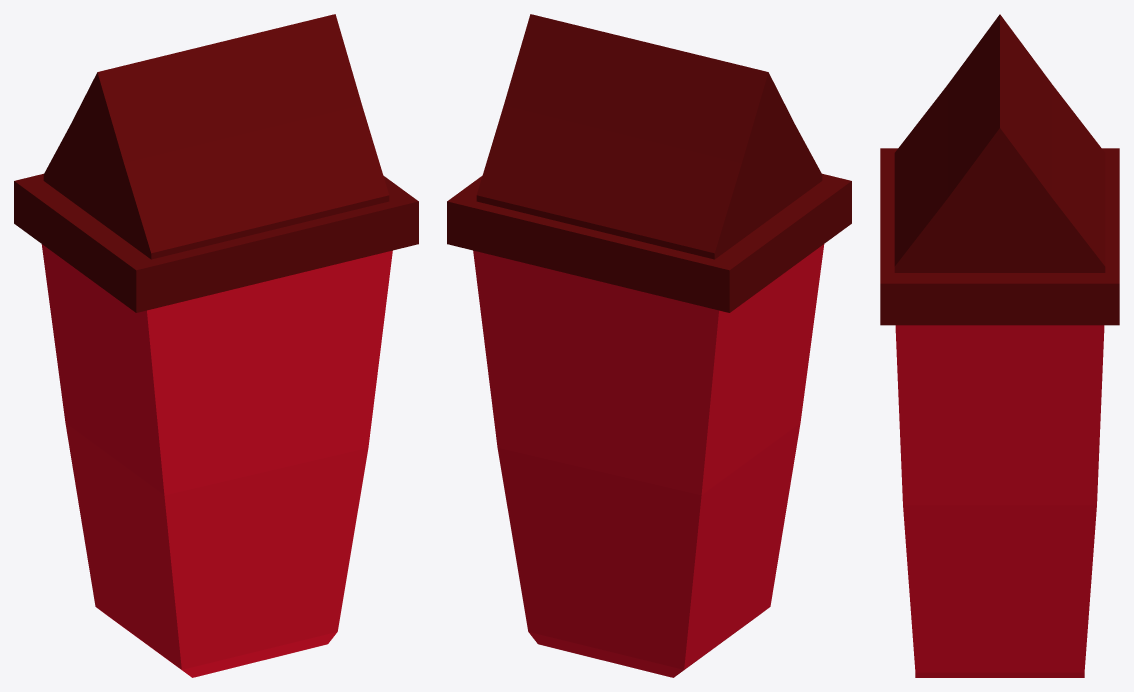
The model's file is CtrlAlt_TrashCan.fbx.
3 views of the same model, side by side, from view 1: azimuth 30°, elevation 25°; view 2: azimuth 150°, elevation 25°; view 3: azimuth 270°, elevation 25° (orthographic). The views are drawn at different scales.
Visible parts, largest first — view 1: Cube.001; view 2: Cube.001; view 3: Cube.001.
Boxes of the visible parts, x1=… form: Cube.001: x1=14, y1=14, x2=418, y2=677; Cube.001: x1=447, y1=14, x2=851, y2=677; Cube.001: x1=880, y1=14, x2=1119, y2=677.
Bounding box in the file's own units: 228 × 453 × 171.
